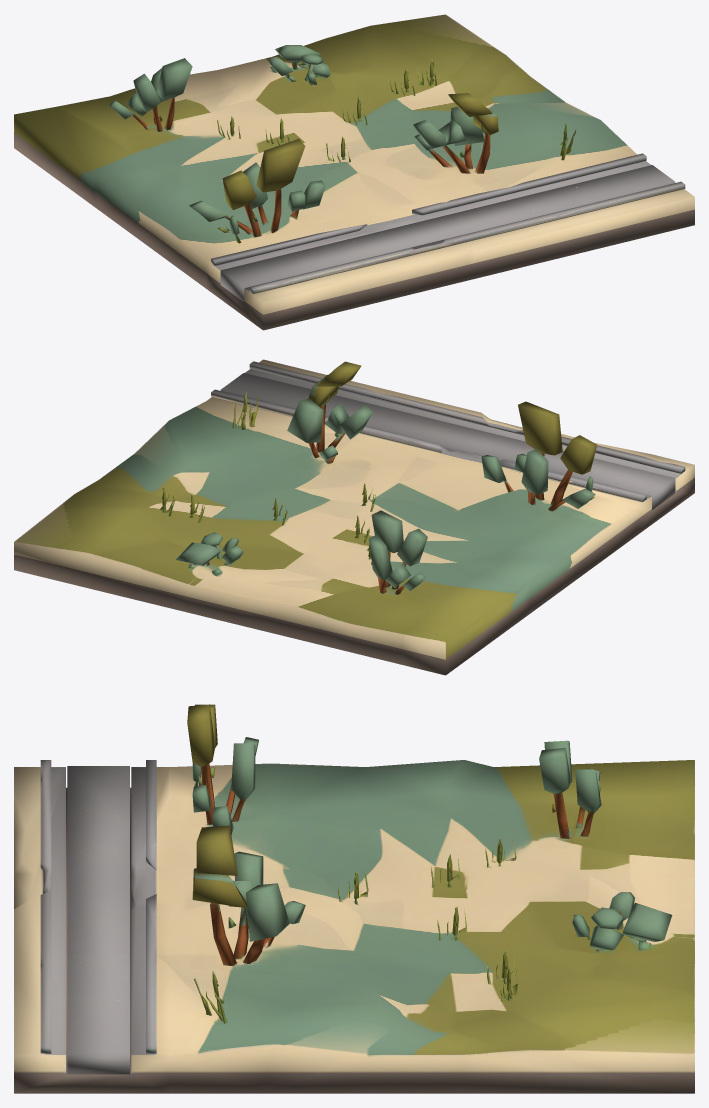
File: original_glb.glb
The picture shows the model from 3 angles, top to bottom: view 1: azimuth 30°, elevation 25°; view 2: azimuth 150°, elevation 25°; view 3: azimuth 270°, elevation 25°; orthographic projection. The views are drawn at different scales.
Parts seen in each view (by area): view 1: Coastal Scrub Ground; view 2: Coastal Scrub Ground; view 3: Coastal Scrub Ground.
Boxes of the visible parts, x1=… form: Coastal Scrub Ground: x1=14, y1=14, x2=694, y2=330; Coastal Scrub Ground: x1=14, y1=359, x2=694, y2=675; Coastal Scrub Ground: x1=14, y1=704, x2=694, y2=1093.
Size of the model in its own units: 0.998 by 0.252 by 0.998.
Materials: 1 (1 with a texture image).
